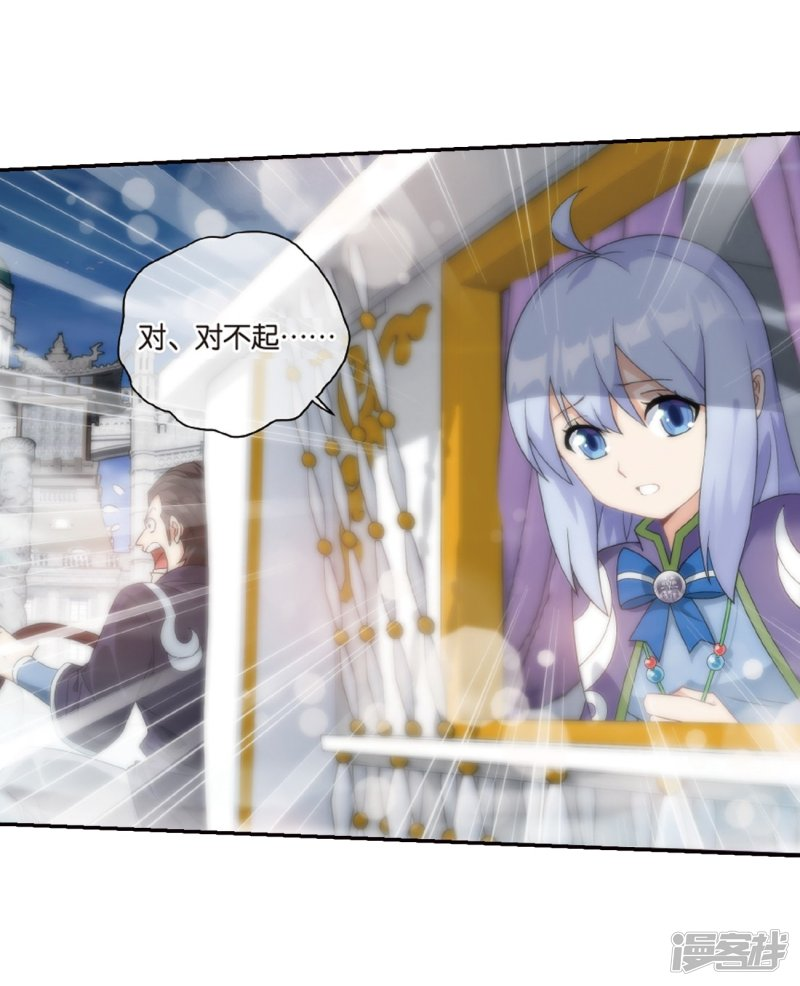boxWave: (111, 226, 355, 439)
minBox: (0, 126, 800, 863)
